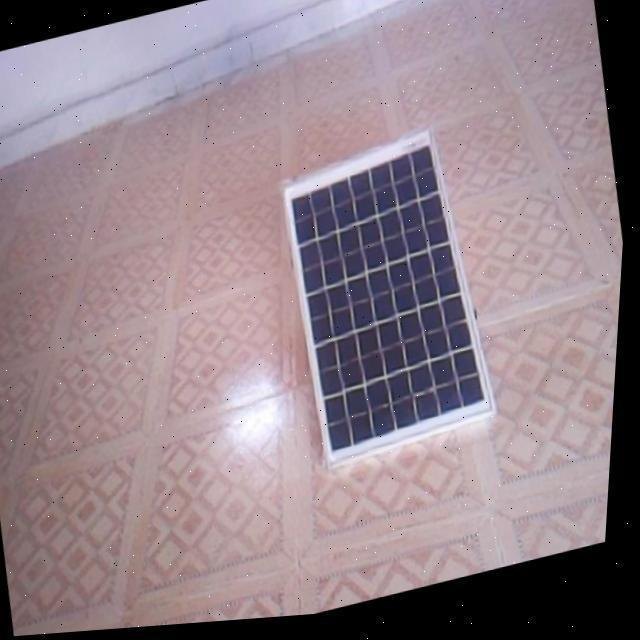Normal Solar Panel: (270, 126, 518, 478)
